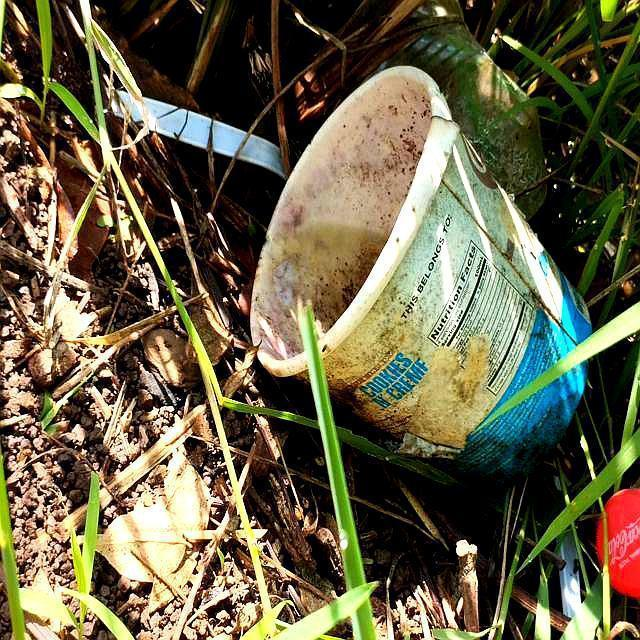Biodegradable: (180, 34, 624, 526)
